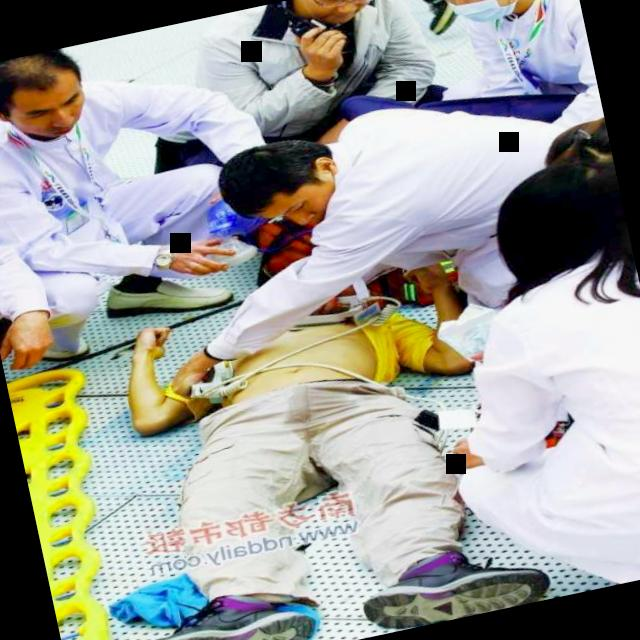Fall-Detected: (68, 175, 551, 640)
